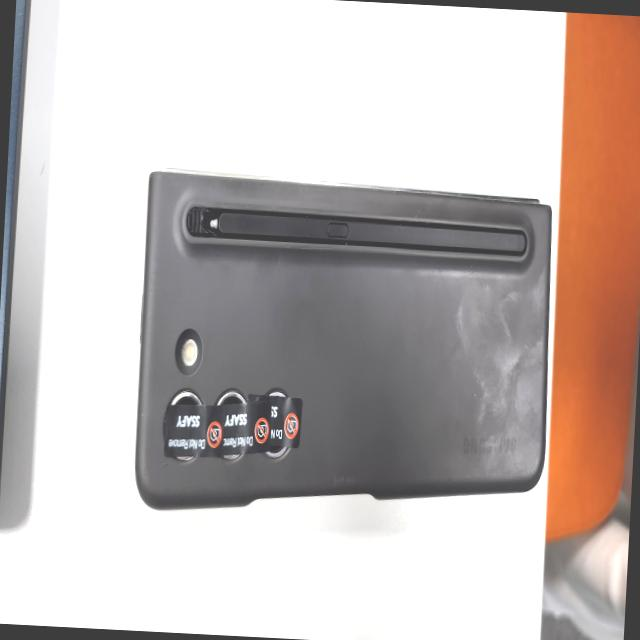phone: (131, 162, 560, 526)
sticker: (210, 398, 270, 452), (164, 402, 216, 456), (252, 397, 304, 449)
